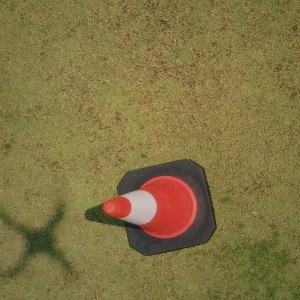traffic cone: (102, 159, 215, 256)
